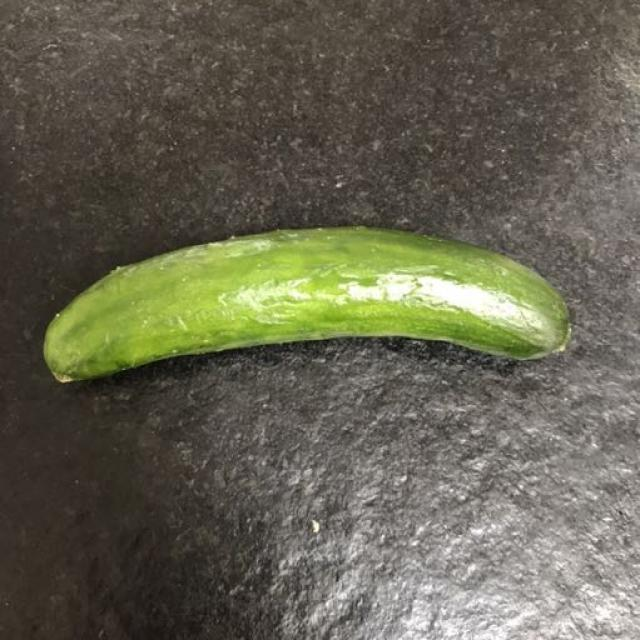cucumber: (43, 224, 565, 372)
